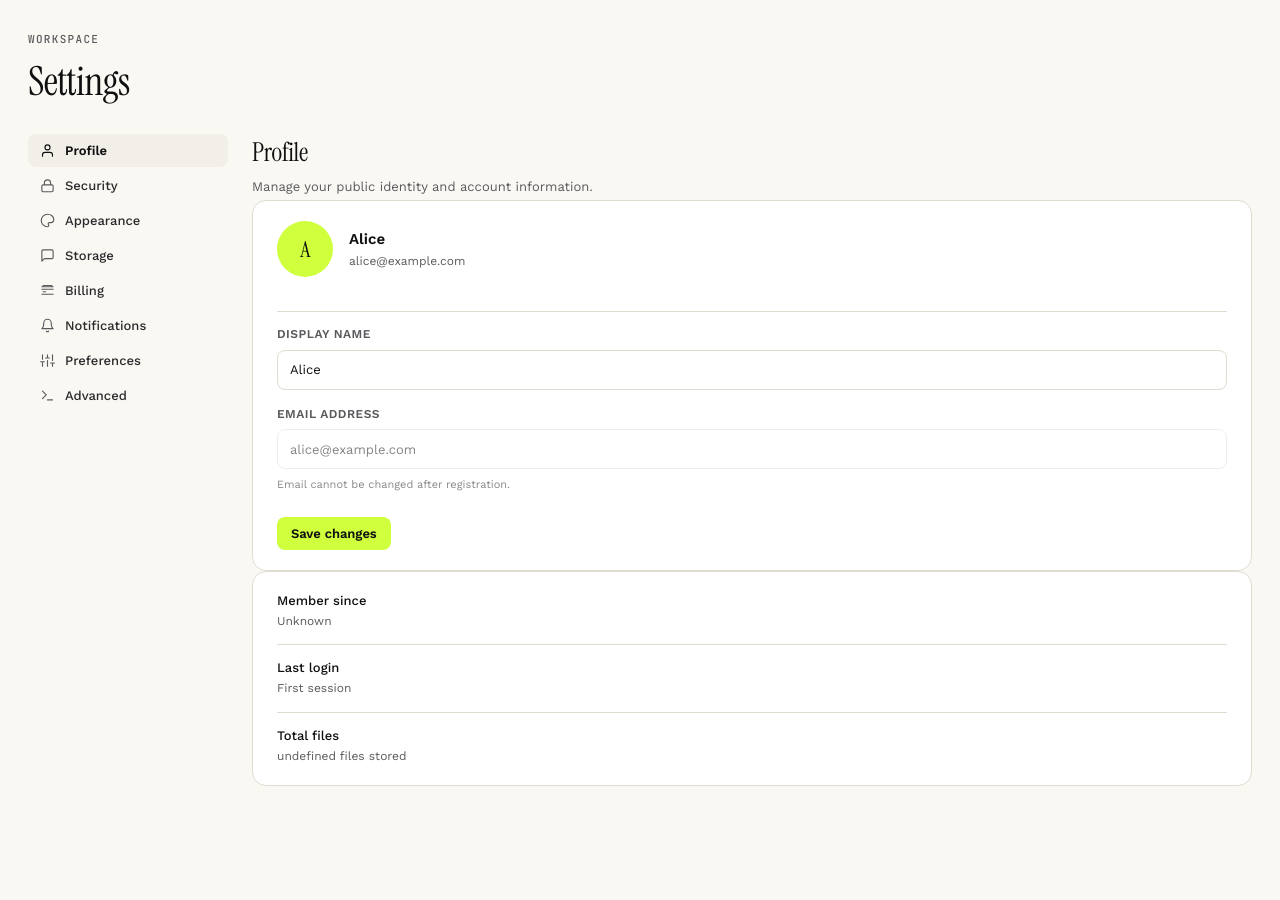
Test case: Settings billing › renders past-due state and billing usage
Click the button "Billing" at x=128, y=290, box [28,274,228,307]
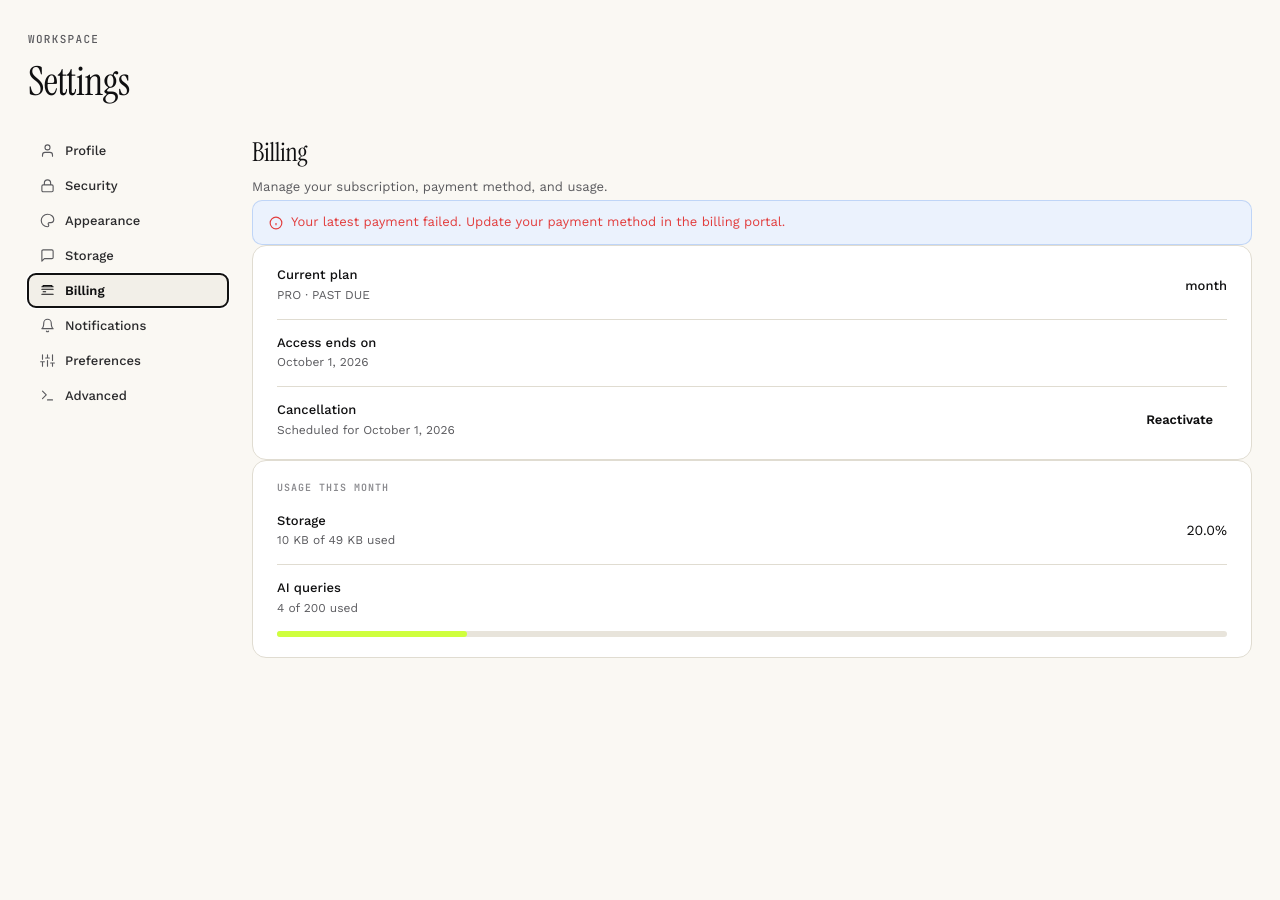
Now the text "latest payment failed" is shown, box [291,214,785,230]
Now the text "PRO · PAST DUE" is shown, box [277,288,370,302]
Now the text "10 KB of 49 KB used" is shown, box [277,533,395,547]
